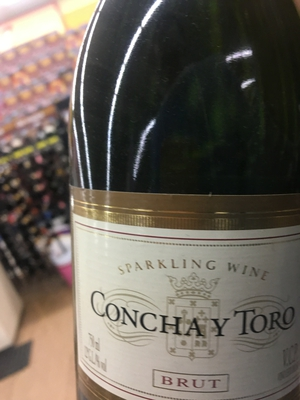brut: (51, 13, 299, 400)
